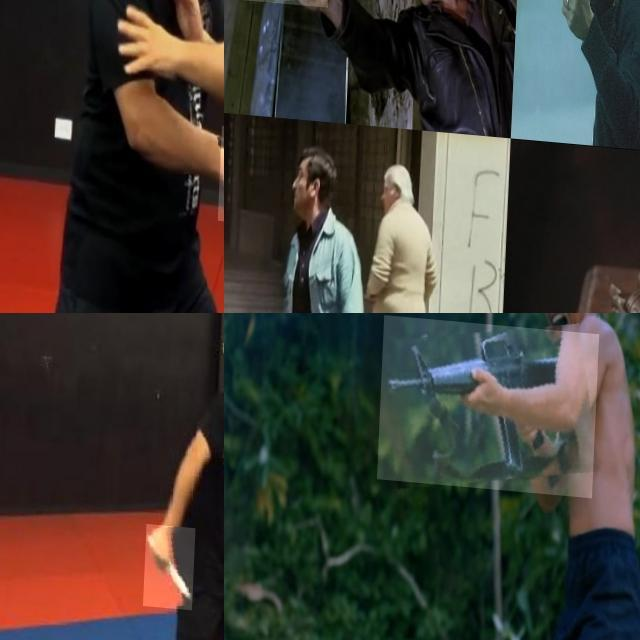-: (148, 520, 200, 605)
gun-knife-thesis - v11 Yolov5 augmented: (380, 313, 600, 489), (236, 0, 334, 63), (557, 0, 584, 53)
